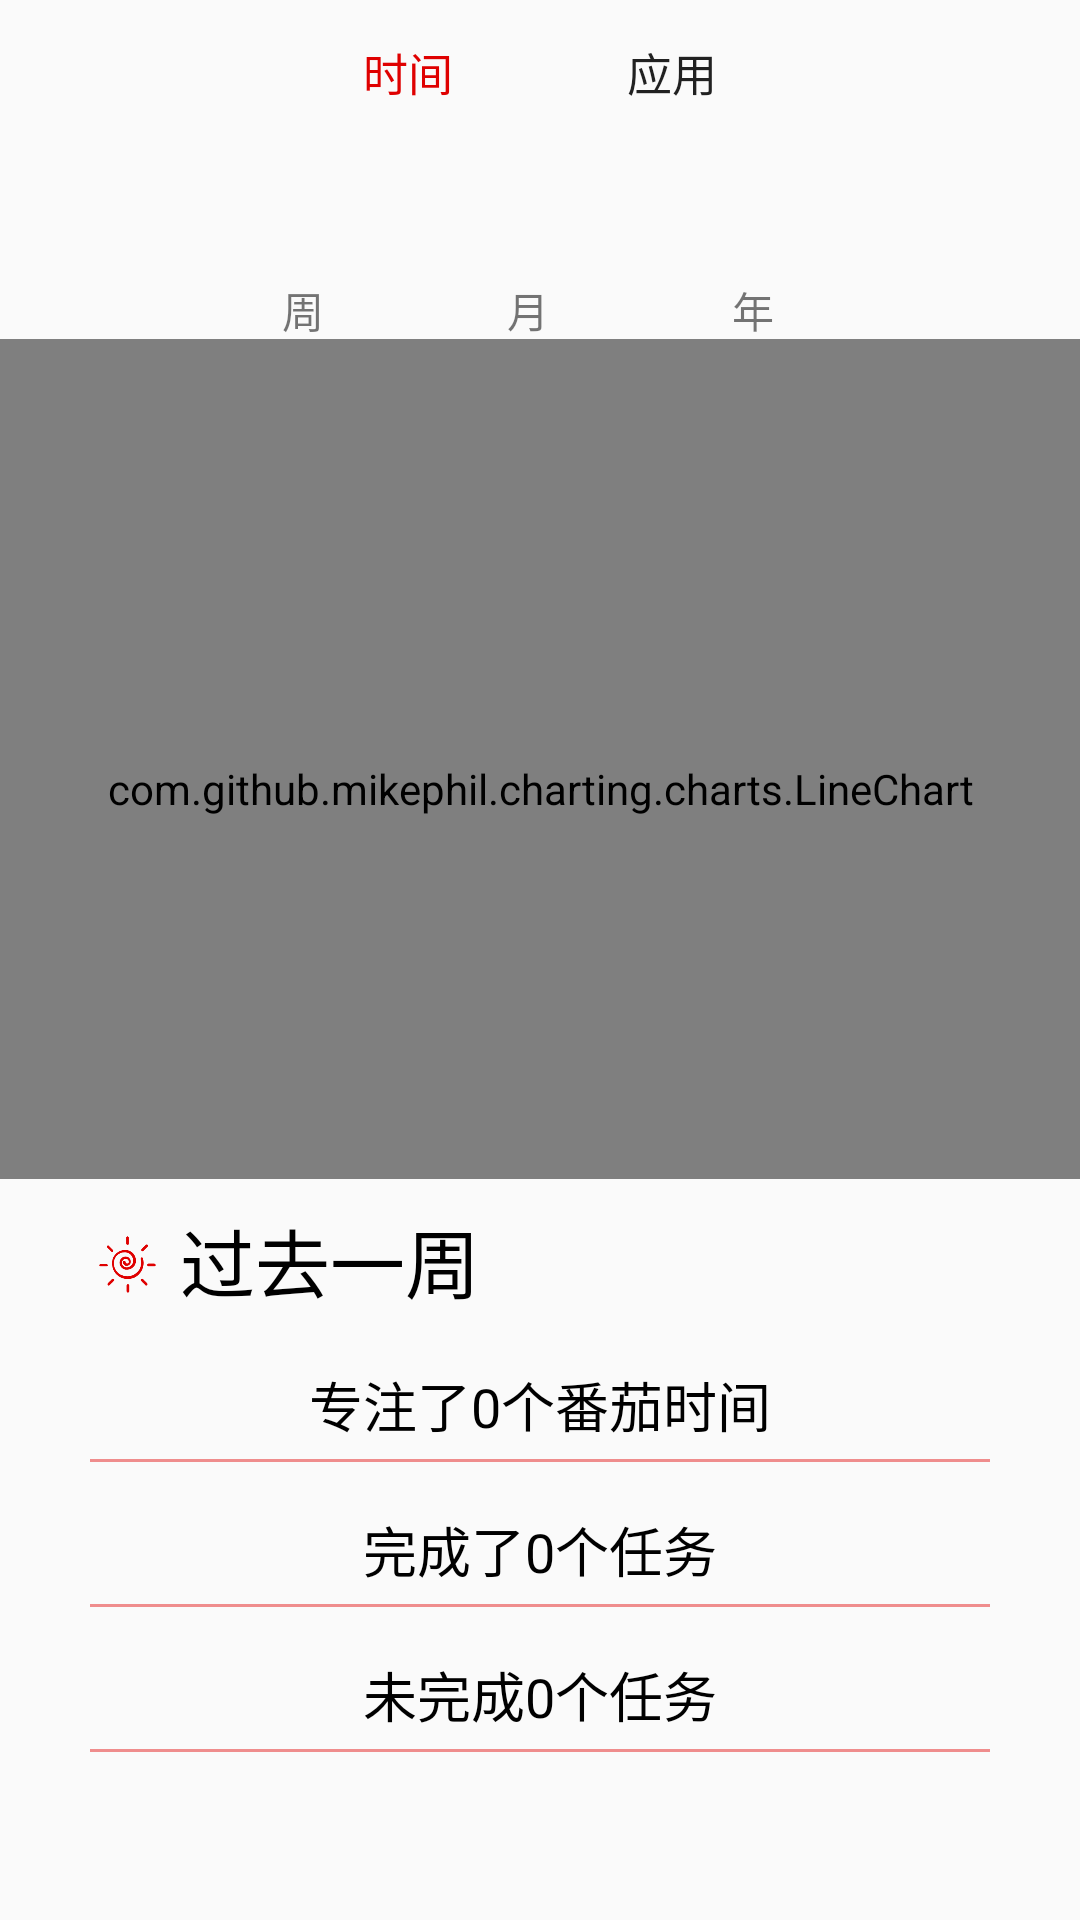

Icon click points for this 1080 x 1920 phone screenshot, format (x,y):
sun: (127,1264)
